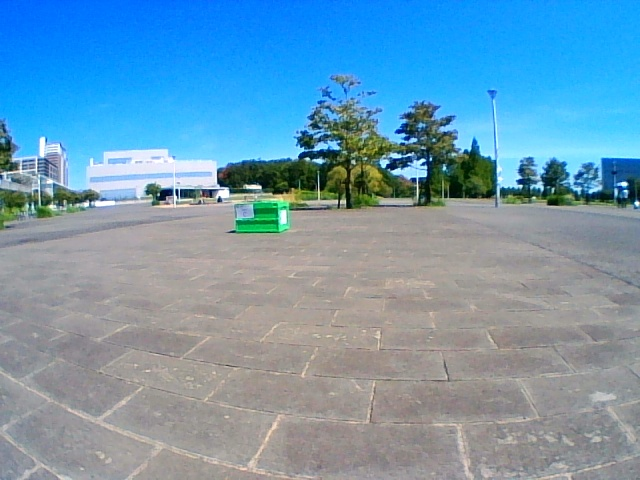green_box: (235, 201, 289, 233)
tag: (236, 205, 252, 218)
